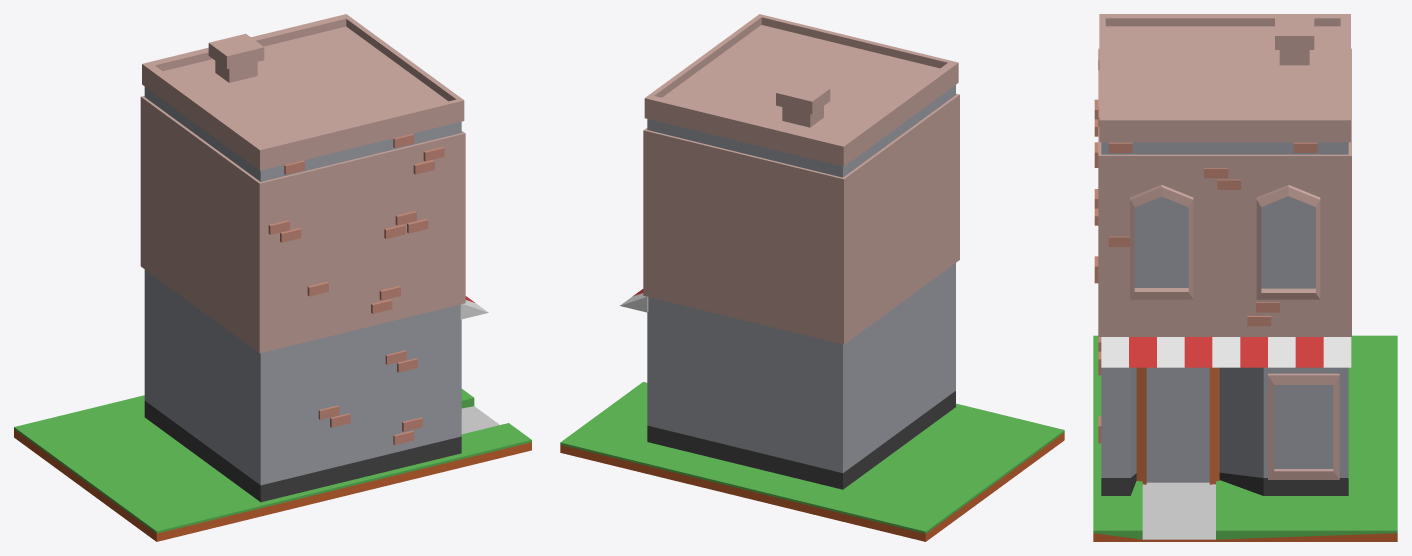
File: shop-building-multi.glb
3 views of the same model, side by side, from view 1: azimuth 30°, elevation 25°; view 2: azimuth 150°, elevation 25°; view 3: azimuth 270°, elevation 25° (orthographic). The views are drawn at different scales.
Parts seen in each view (by area): view 1: Cube.001, Cube (×2), Cube.005, Cube.006 (×3); view 2: Cube.001, Cube (×2), Cube.005, Cube.006 (×2); view 3: Cube (×2), Cube.001, Cube.005, Cube.006 (×3), Cube.002 (×2), Cube.003, Cube.004.
Boxes of the visible parts, left/top/right/bottom form: Cube.001: left=140, top=96, right=465, bottom=353; Cube (×2): left=144, top=87, right=461, bottom=502; Cube.005: left=142, top=14, right=464, bottom=170; Cube.006 (×3): left=14, top=389, right=531, bottom=541; Cube.001: left=643, top=93, right=959, bottom=344; Cube (×2): left=647, top=85, right=955, bottom=489; Cube.005: left=644, top=14, right=958, bottom=166; Cube.006 (×2): left=560, top=382, right=1064, bottom=541; Cube (×2): left=1101, top=142, right=1348, bottom=495; Cube.001: left=1098, top=48, right=1351, bottom=336; Cube.005: left=1099, top=14, right=1350, bottom=142; Cube.006 (×3): left=1093, top=335, right=1397, bottom=541; Cube.002 (×2): left=1101, top=337, right=1351, bottom=367; Cube.003: left=1268, top=373, right=1339, bottom=479; Cube.004: left=1136, top=367, right=1219, bottom=484.
Bounding box in the file's own units: 6.84 × 6.75 × 4.5.
